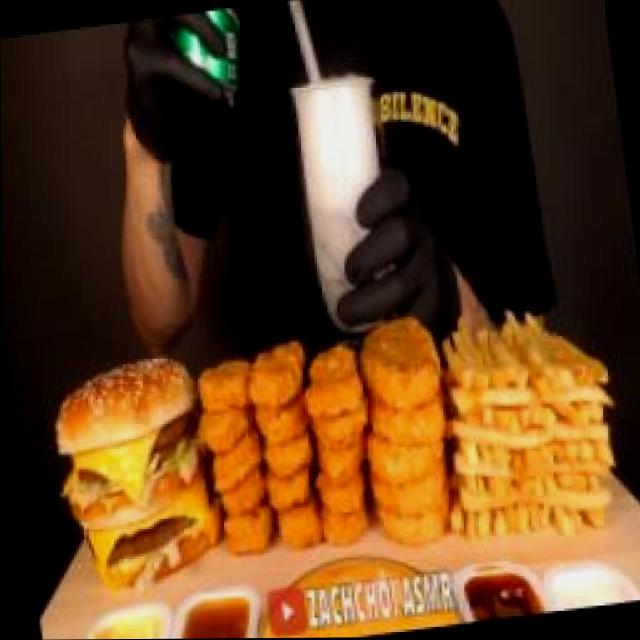Hashbrown: (342, 290, 468, 564)
burger: (42, 334, 223, 593)
french fries: (432, 279, 631, 550)
nugget: (185, 323, 381, 579)
sprite: (265, 0, 420, 338)
